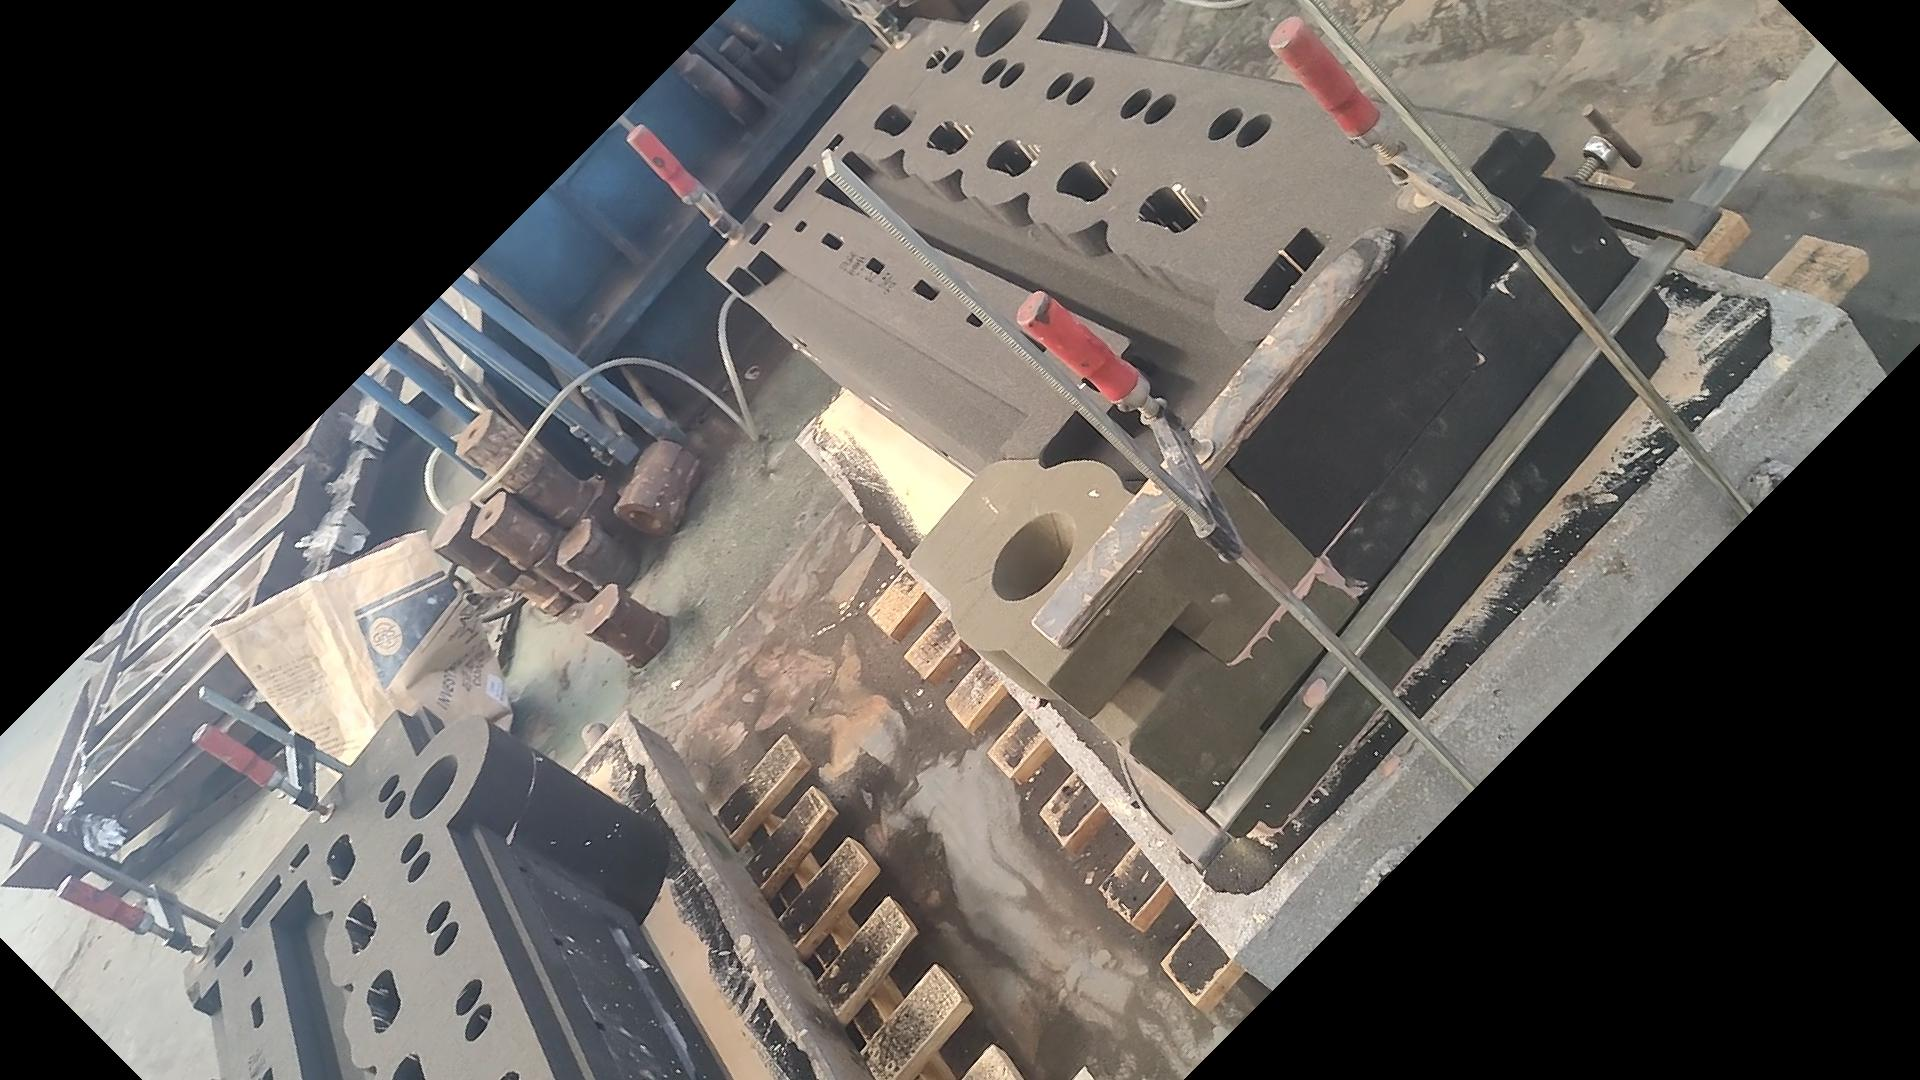pouring hole: (992, 512, 1077, 603), (407, 753, 458, 820), (973, 1, 1031, 55)
